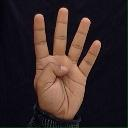hand: (32, 7, 101, 121)
